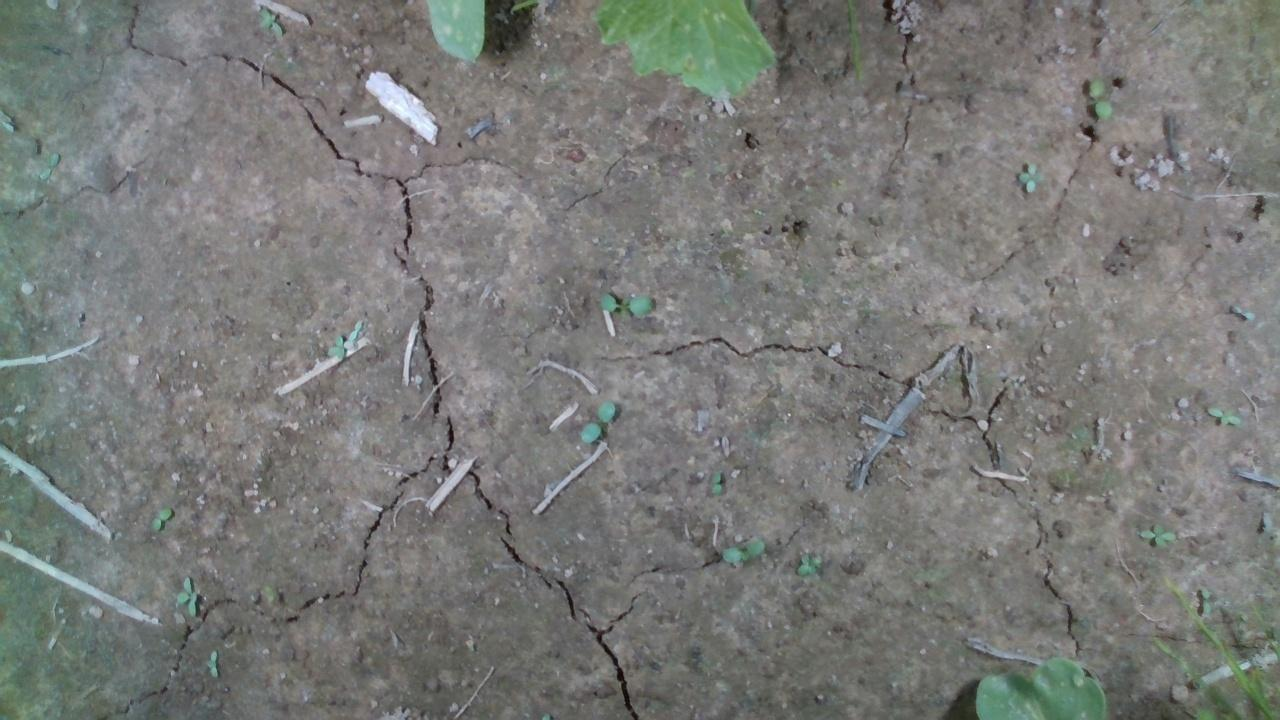weed: (578, 400, 615, 444), (597, 292, 652, 316), (1086, 76, 1112, 121), (720, 537, 764, 563), (172, 575, 198, 618), (1138, 521, 1178, 547), (1014, 159, 1037, 195), (1206, 405, 1240, 427), (792, 552, 823, 576), (149, 506, 171, 531), (1197, 585, 1211, 616), (205, 650, 217, 678), (710, 468, 721, 496)
